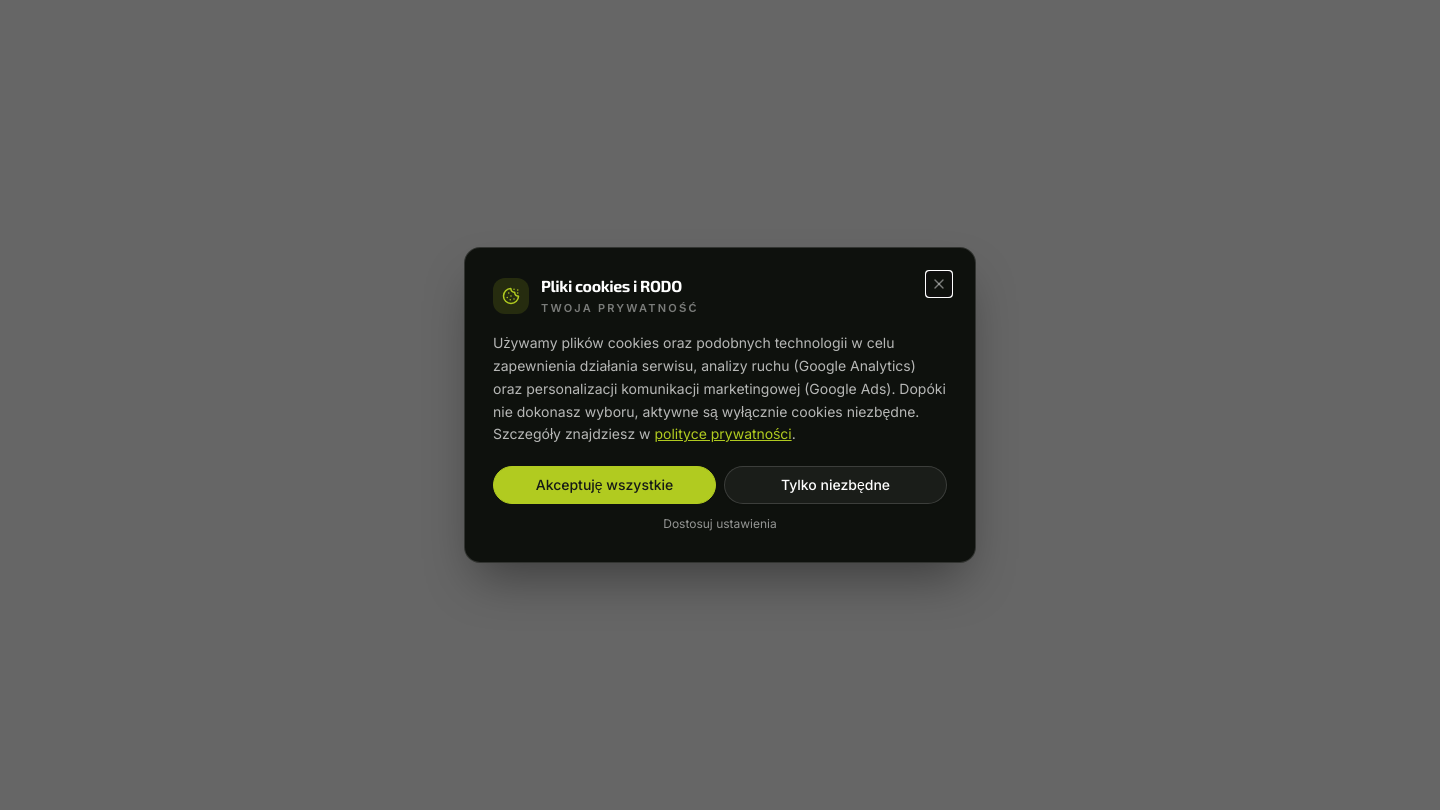
Test: CookieConsent – domyślne przełączniki › analityczne i marketingowe są domyślnie wyłączone, niezbędne włączone i zablokowane
Click the button "Dostosuj ustawienia".
click(720, 524)  # box x1=493 y1=516 x2=947 y2=532
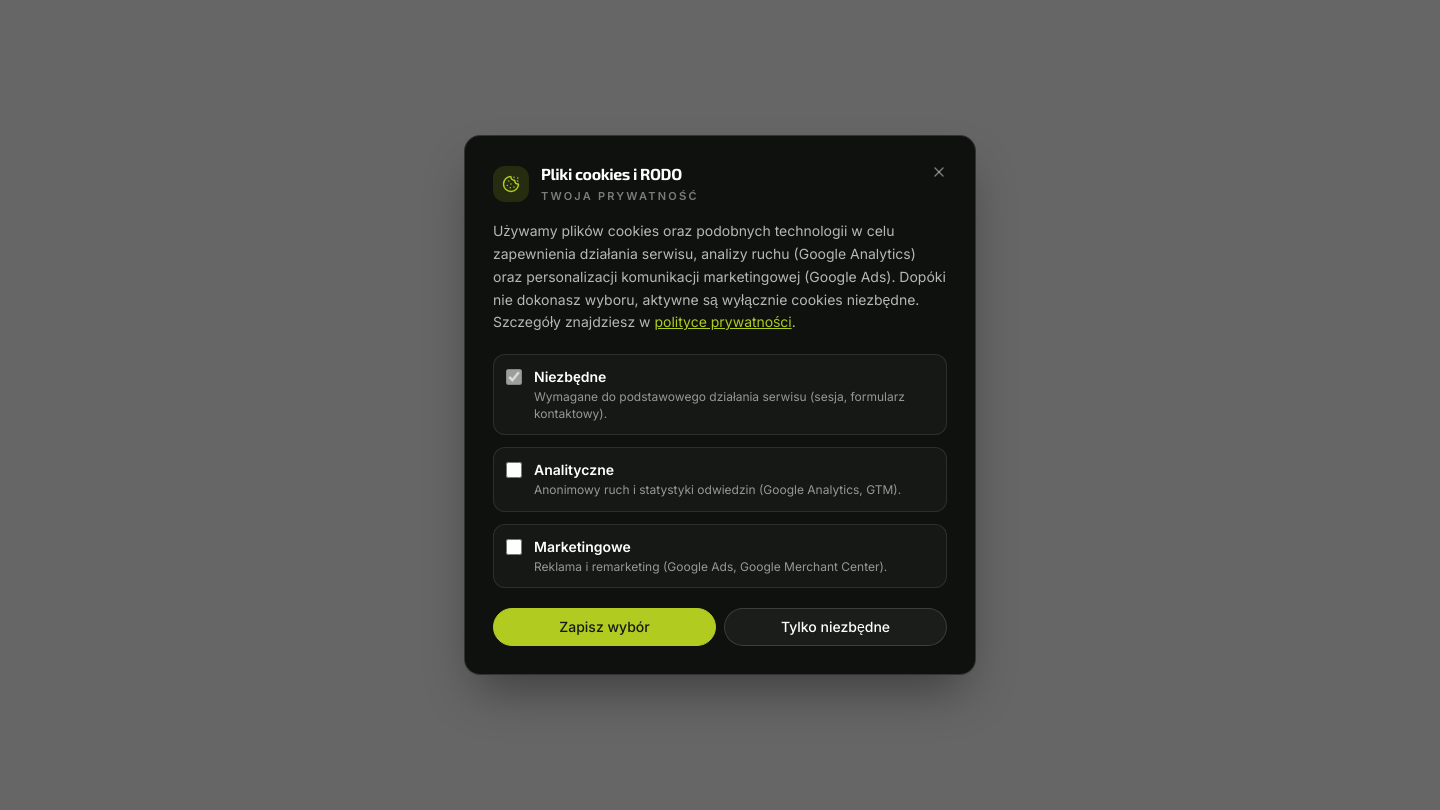
Expected: the checkbox labelled "Niezbędne" is checked, x1=506 y1=369 x2=522 y2=385
Expected: the checkbox labelled "Niezbędne" is disabled, x1=506 y1=369 x2=522 y2=385
Expected: the checkbox labelled "Analityczne" is not checked, x1=506 y1=462 x2=522 y2=478
